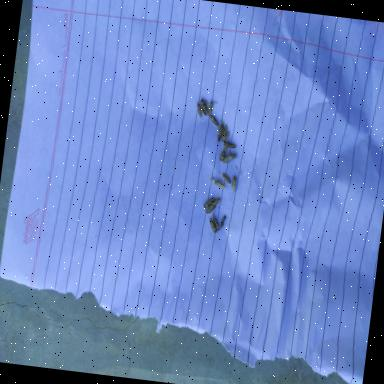pbw: (204, 215, 219, 236), (197, 98, 210, 118), (214, 122, 224, 146), (194, 102, 204, 122), (222, 152, 238, 164), (207, 100, 217, 118), (202, 196, 214, 211), (218, 172, 232, 184), (220, 124, 229, 142), (210, 214, 220, 230), (210, 195, 222, 208), (204, 203, 216, 215), (208, 115, 219, 128), (212, 179, 225, 189), (219, 146, 227, 162), (222, 141, 236, 149), (230, 176, 237, 192), (220, 216, 226, 230)
